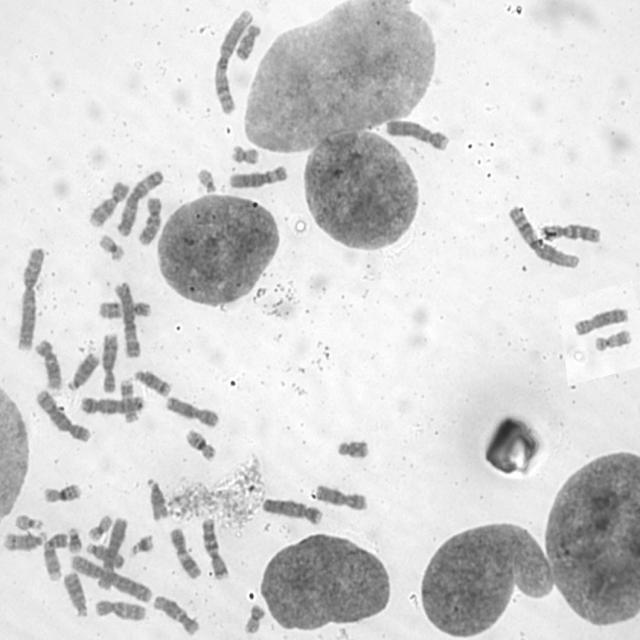A1: (213, 9, 256, 116), (508, 206, 579, 268)
A2: (69, 554, 153, 603), (16, 246, 46, 352)
A3: (116, 170, 164, 238), (114, 280, 140, 358)
B4: (385, 120, 449, 151), (260, 497, 324, 526)
B5: (36, 390, 91, 442), (81, 396, 145, 415)
C10: (138, 197, 162, 246), (96, 599, 146, 621)
C11: (170, 528, 201, 579), (99, 300, 152, 320)
C12: (152, 594, 198, 636), (34, 339, 61, 389)
C6: (96, 516, 129, 591), (228, 164, 288, 190)
C7: (201, 518, 229, 578), (540, 222, 601, 244)
C8: (574, 308, 630, 335), (101, 334, 119, 393)
C9: (89, 181, 130, 226), (42, 532, 70, 581)
D13: (66, 352, 101, 392), (62, 571, 88, 618)
D14: (134, 370, 170, 397), (3, 530, 47, 552)
D15: (144, 478, 168, 522), (86, 542, 124, 569)
E16: (185, 430, 216, 461), (43, 484, 81, 504)
E17: (118, 378, 140, 423), (595, 329, 632, 352)
E18: (236, 24, 262, 61), (337, 439, 369, 458)
F19: (98, 234, 125, 262), (88, 515, 114, 542)
F20: (242, 604, 266, 636), (230, 144, 260, 164)
G21: (130, 534, 154, 556), (66, 526, 83, 554)
G22: (196, 168, 216, 193), (15, 514, 44, 531)
X: (165, 396, 219, 428), (315, 485, 368, 511)
